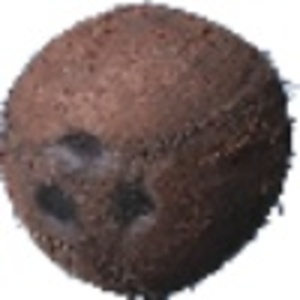coco: (1, 3, 300, 300)
